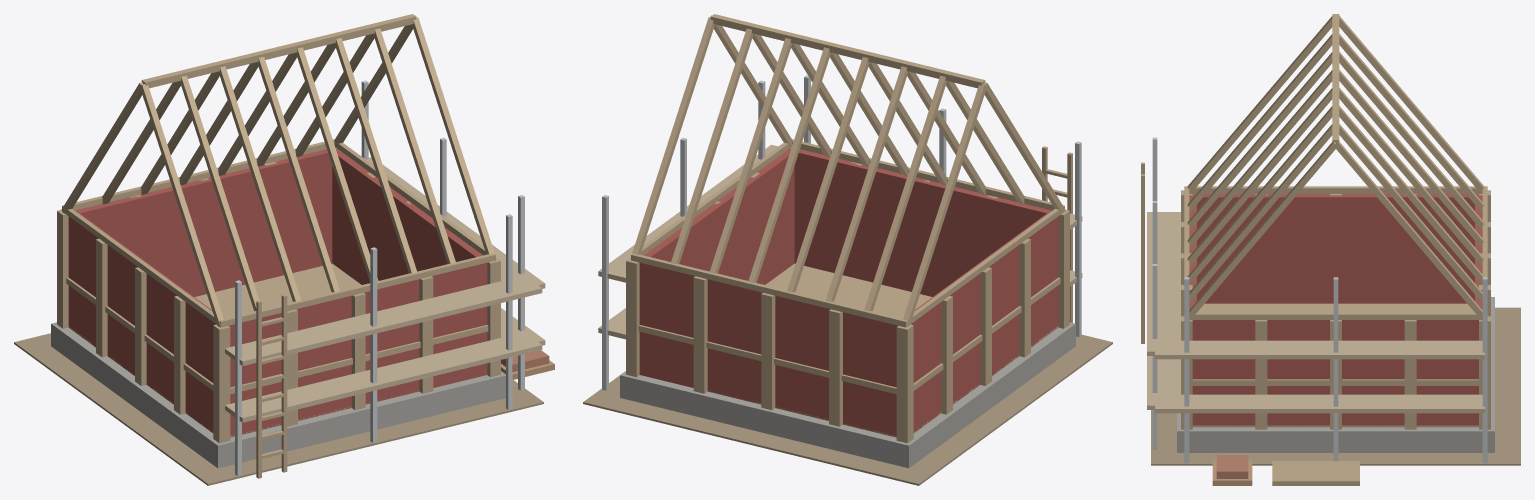
Rendered from cow_shed_site_9.glb.
The picture shows the model from 3 angles, left to right: view 1: azimuth 30°, elevation 25°; view 2: azimuth 150°, elevation 25°; view 3: azimuth 270°, elevation 25°; orthographic projection. The views are drawn at different scales.
Visible parts, largest first — view 1: body; view 2: body; view 3: body.
Part boxes in pixels (x1=…): body: x1=14, y1=14, x2=554, y2=485; body: x1=583, y1=14, x2=1112, y2=485; body: x1=1141, y1=14, x2=1520, y2=485.
Size of the model in its own units: 2.1 by 1.72 by 1.91.
